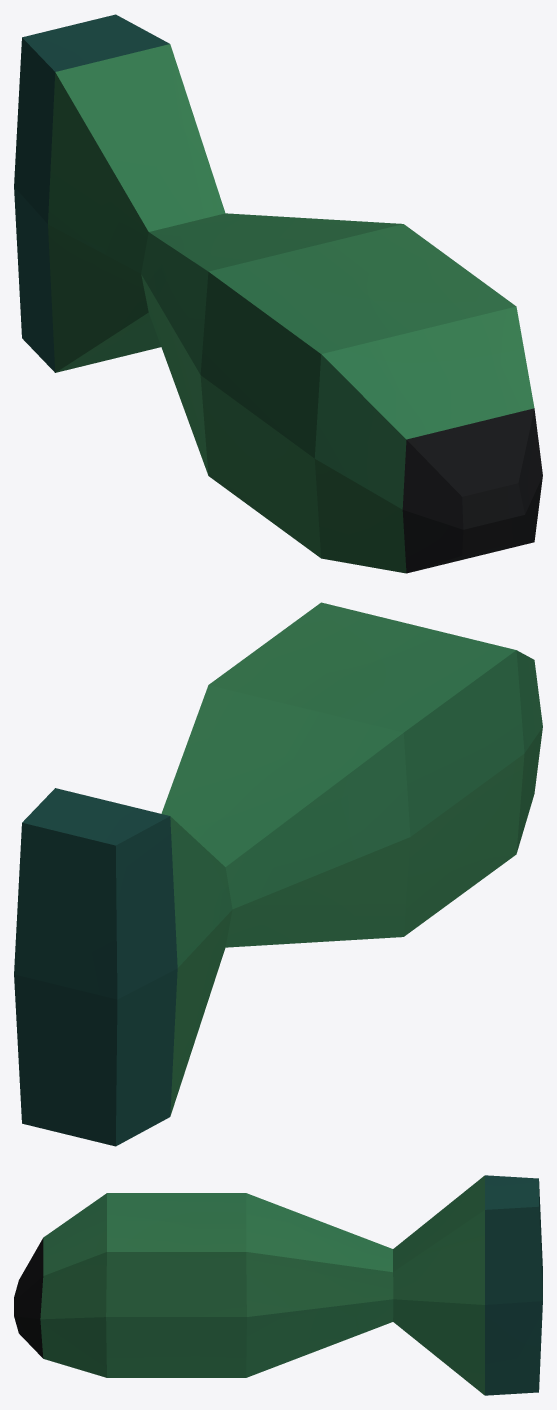
The model's file is fish2.fbx.
The picture shows the model from 3 angles, top to bottom: view 1: azimuth 30°, elevation 25°; view 2: azimuth 150°, elevation 25°; view 3: azimuth 270°, elevation 25°; orthographic projection. The views are drawn at different scales.
Parts seen in each view (by area): view 1: Cube; view 2: Cube; view 3: Cube.
Part boxes in pixels (bbox=[...]): Cube: bbox=[14, 14, 542, 573]; Cube: bbox=[14, 602, 542, 1146]; Cube: bbox=[14, 1175, 542, 1395].
Bounding box in the file's own units: 42.98 × 58.89 × 152.
1 material, 1 textured.
